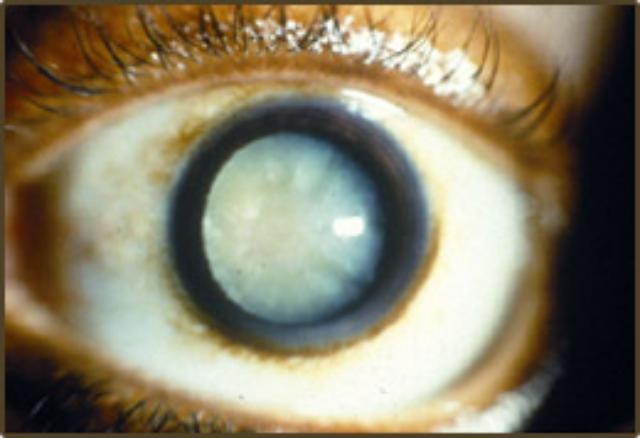eye: (163, 90, 441, 348)
